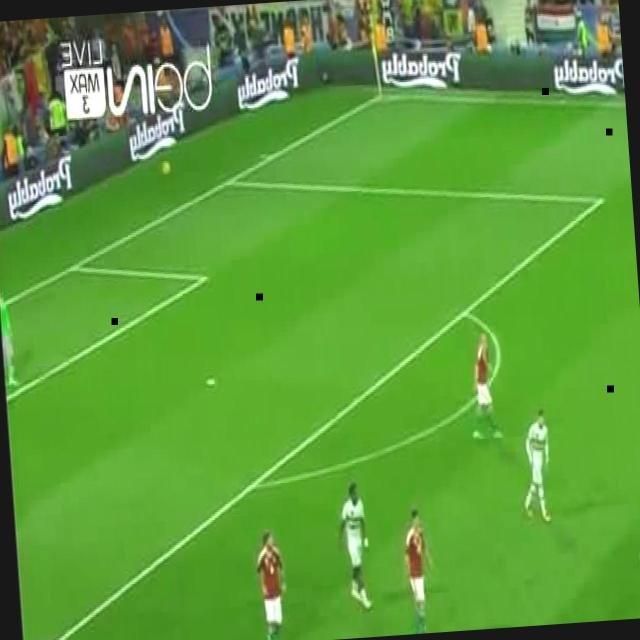ball: (161, 161, 171, 176)
player-white: (334, 481, 374, 614), (400, 505, 438, 635), (517, 408, 555, 524), (467, 334, 502, 441), (256, 532, 290, 640), (634, 472, 640, 586)
